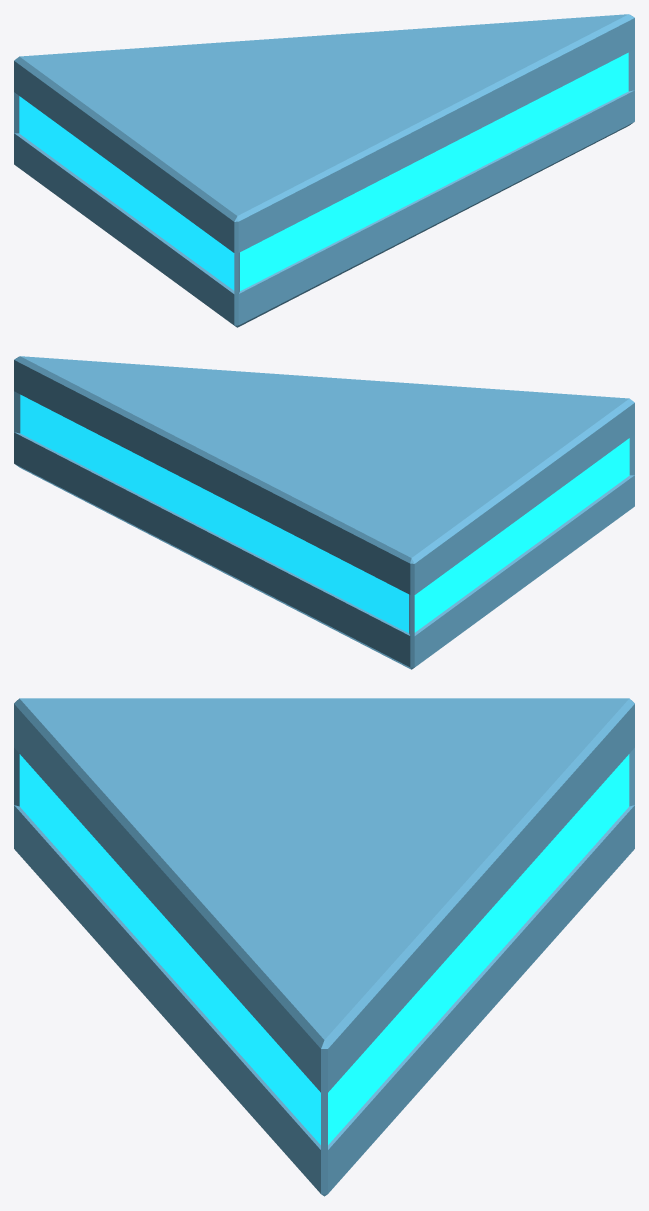
File: triangle_shape.fbx
3 views of the same model, one above another, from view 1: azimuth 30°, elevation 25°; view 2: azimuth 150°, elevation 25°; view 3: azimuth 270°, elevation 25° (orthographic). The views are drawn at different scales.
Visible parts, largest first — view 1: Cylinder; view 2: Cylinder; view 3: Cylinder.
Part boxes in pixels (x1,y1,x2,y2): Cylinder: (14, 14, 634, 327); Cylinder: (14, 356, 634, 669); Cylinder: (14, 698, 634, 1196).
Size of the model in its own units: 149 by 31.21 by 112.
